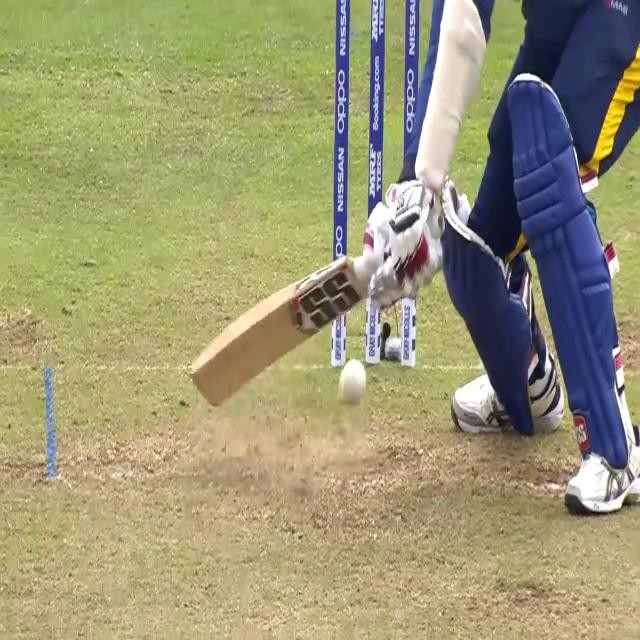ball: (337, 355, 371, 409)
